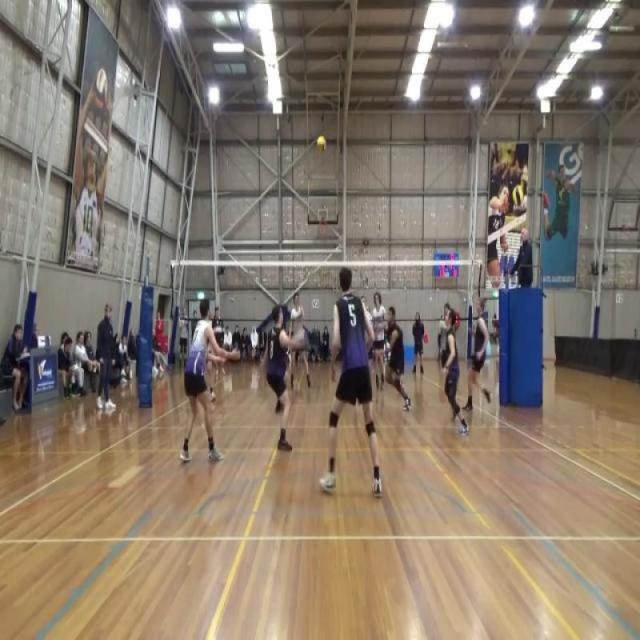volleyball: (94, 67, 109, 112), (512, 184, 525, 208), (317, 134, 327, 154)
